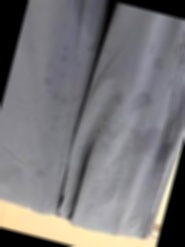oil: (38, 78, 85, 108), (127, 86, 160, 120), (51, 40, 75, 68), (146, 54, 170, 78), (51, 66, 74, 86)
